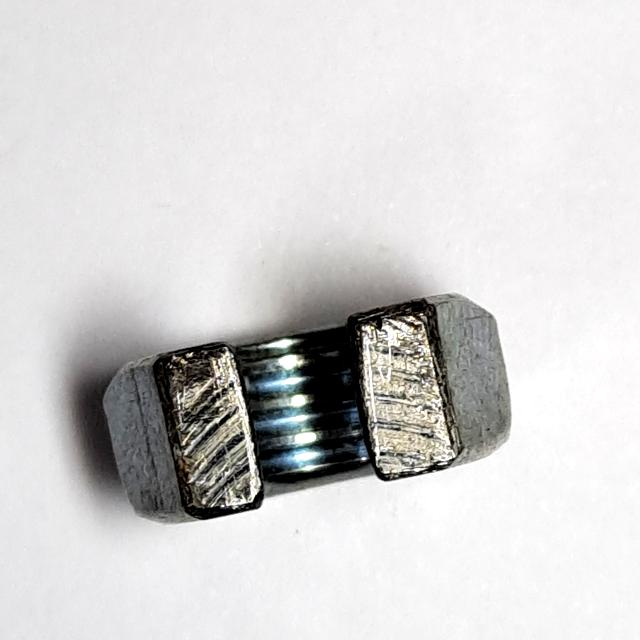Side-Fracture: (92, 284, 532, 534)
